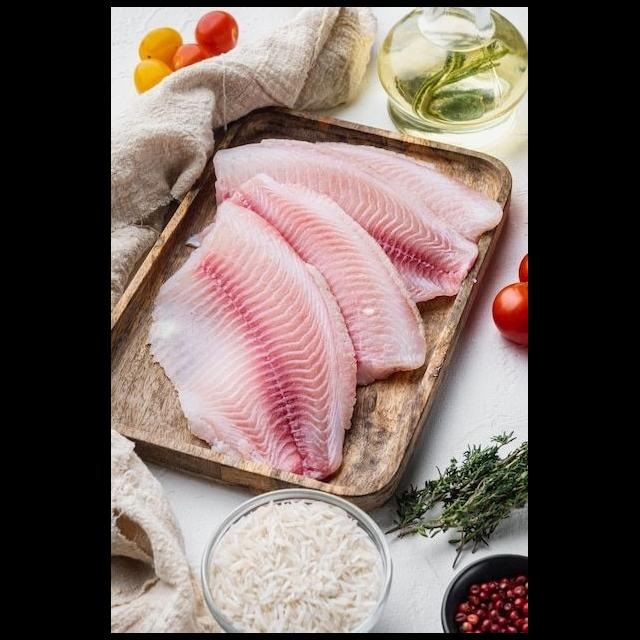fish: (133, 180, 369, 498)
